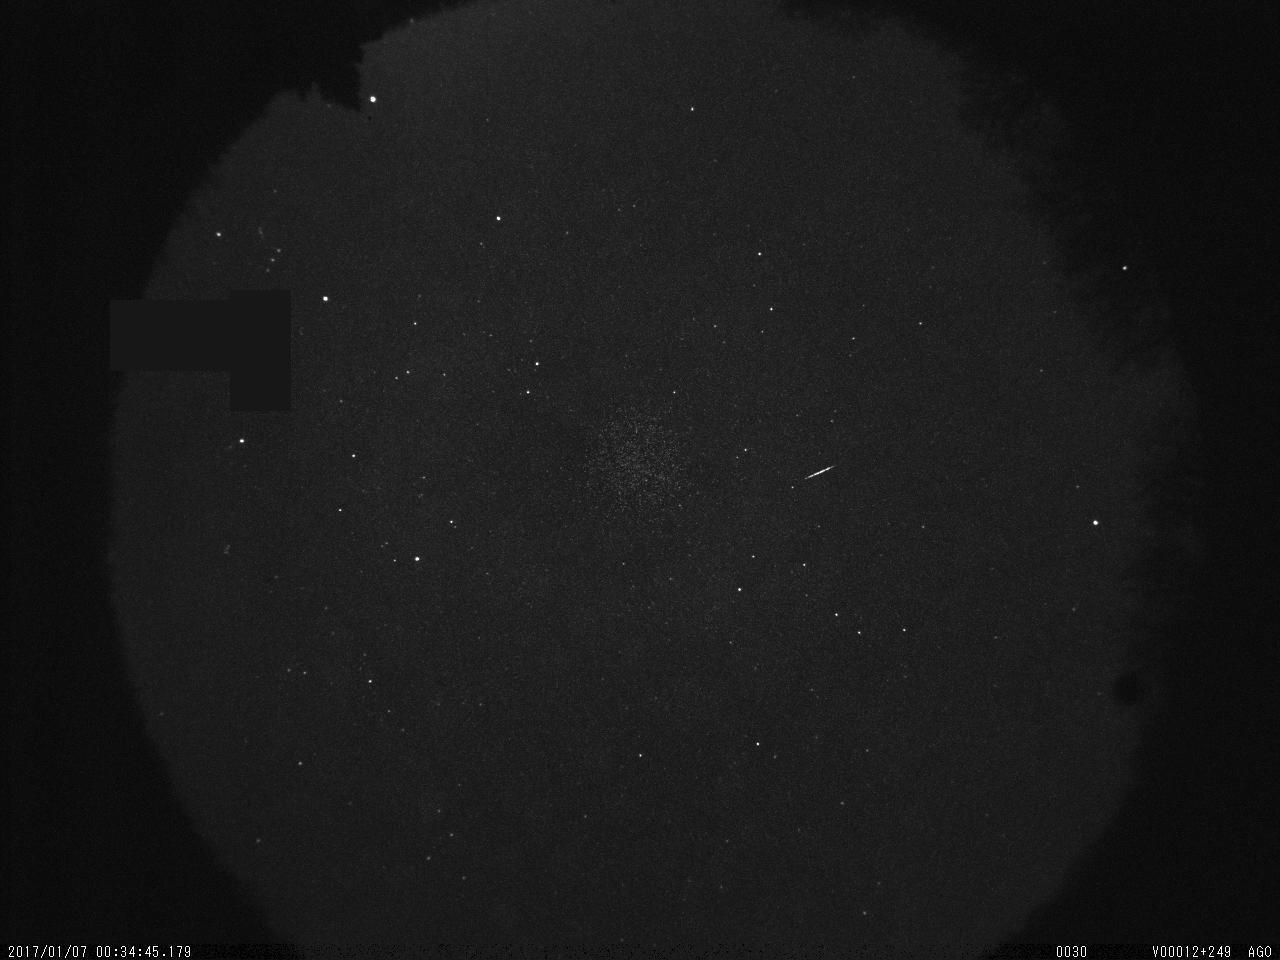Meteor: (803, 462, 835, 480)
